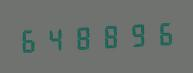eight: (70, 21, 95, 53), (96, 20, 121, 51)
four: (43, 22, 68, 54)
nine: (122, 18, 147, 50)
six: (17, 24, 42, 55), (148, 17, 173, 48)
